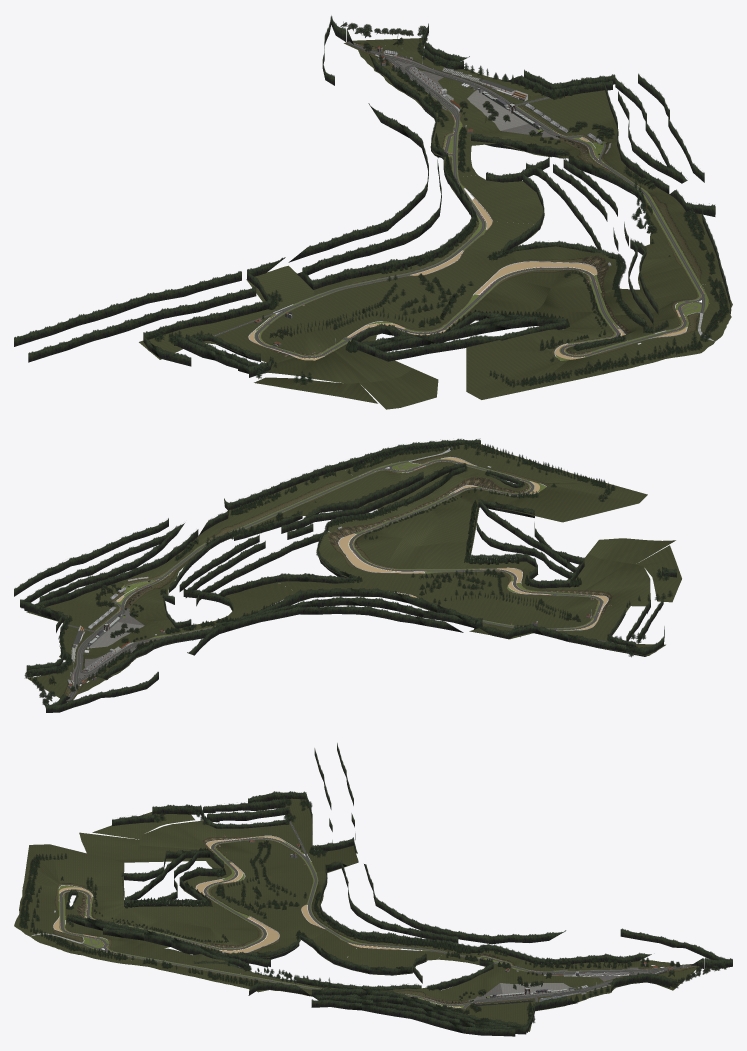
Rendered from SUP_circuit_de_spa_francorchamps_1992_layout.glb.
3 renders of one model, top to bottom at view 1: azimuth 30°, elevation 25°; view 2: azimuth 150°, elevation 25°; view 3: azimuth 270°, elevation 25°, orthographic. The views are drawn at different scales.
Parts seen in each view (by area): view 1: SUP_circuit_de_spa_francorchamps_1992_layout; view 2: SUP_circuit_de_spa_francorchamps_1992_layout; view 3: SUP_circuit_de_spa_francorchamps_1992_layout.
Part boxes in pixels (x1=…): SUP_circuit_de_spa_francorchamps_1992_layout: x1=14, y1=15, x2=732, y2=409; SUP_circuit_de_spa_francorchamps_1992_layout: x1=14, y1=438, x2=681, y2=712; SUP_circuit_de_spa_francorchamps_1992_layout: x1=14, y1=743, x2=732, y2=1036.
Size of the model in its own units: 13559 by 847 by 14195.
Materials: 66 (64 with a texture image).
